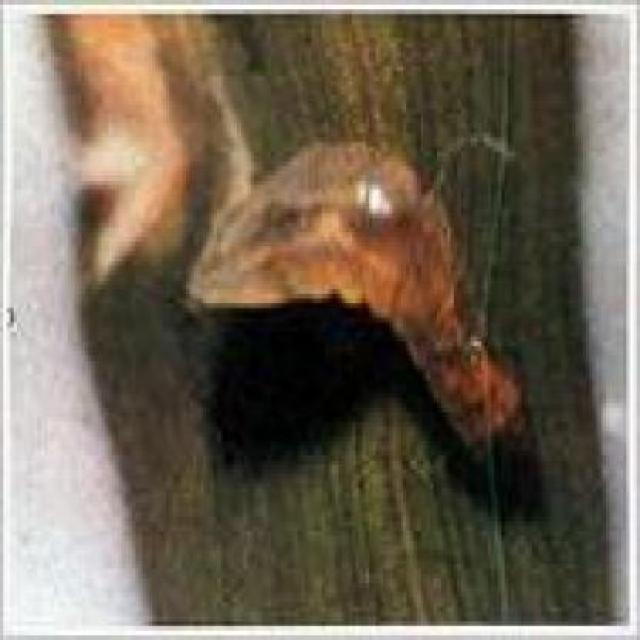whorl-maggot: (183, 139, 528, 468)
